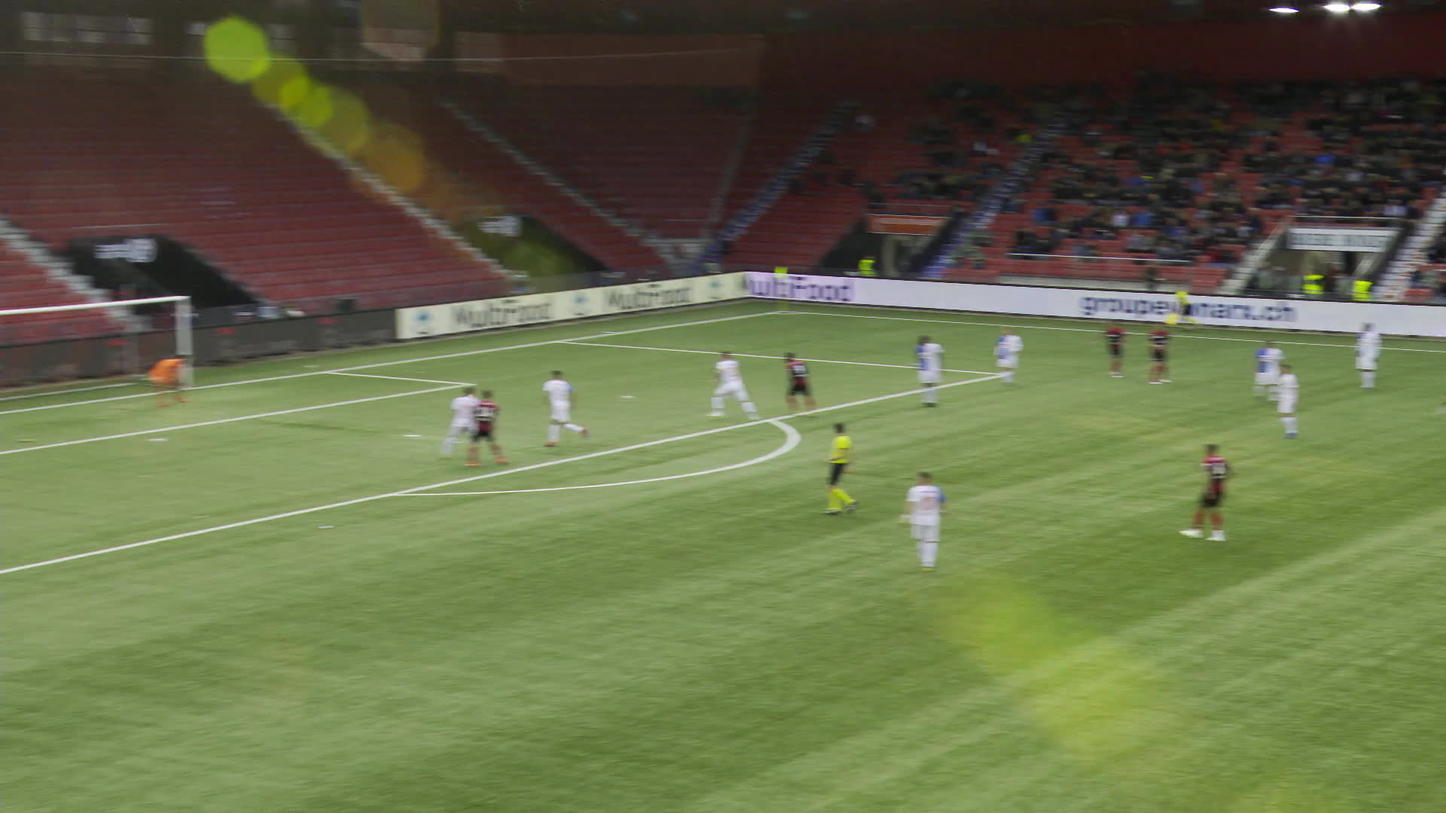ball: (474, 386, 486, 394)
player: (879, 468, 928, 572), (1163, 443, 1213, 540), (443, 387, 486, 467), (688, 348, 735, 420), (525, 370, 567, 448), (422, 387, 461, 459), (763, 349, 798, 418), (1414, 349, 1445, 424), (894, 333, 925, 407), (123, 353, 165, 407), (1255, 361, 1282, 440), (1335, 319, 1363, 390), (973, 323, 1005, 385), (1232, 338, 1262, 404), (1124, 321, 1154, 384), (1083, 318, 1109, 378)
referee: (801, 422, 844, 514), (1149, 285, 1188, 332)
